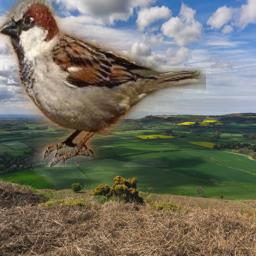Sparrow: (0, 0, 206, 167)
